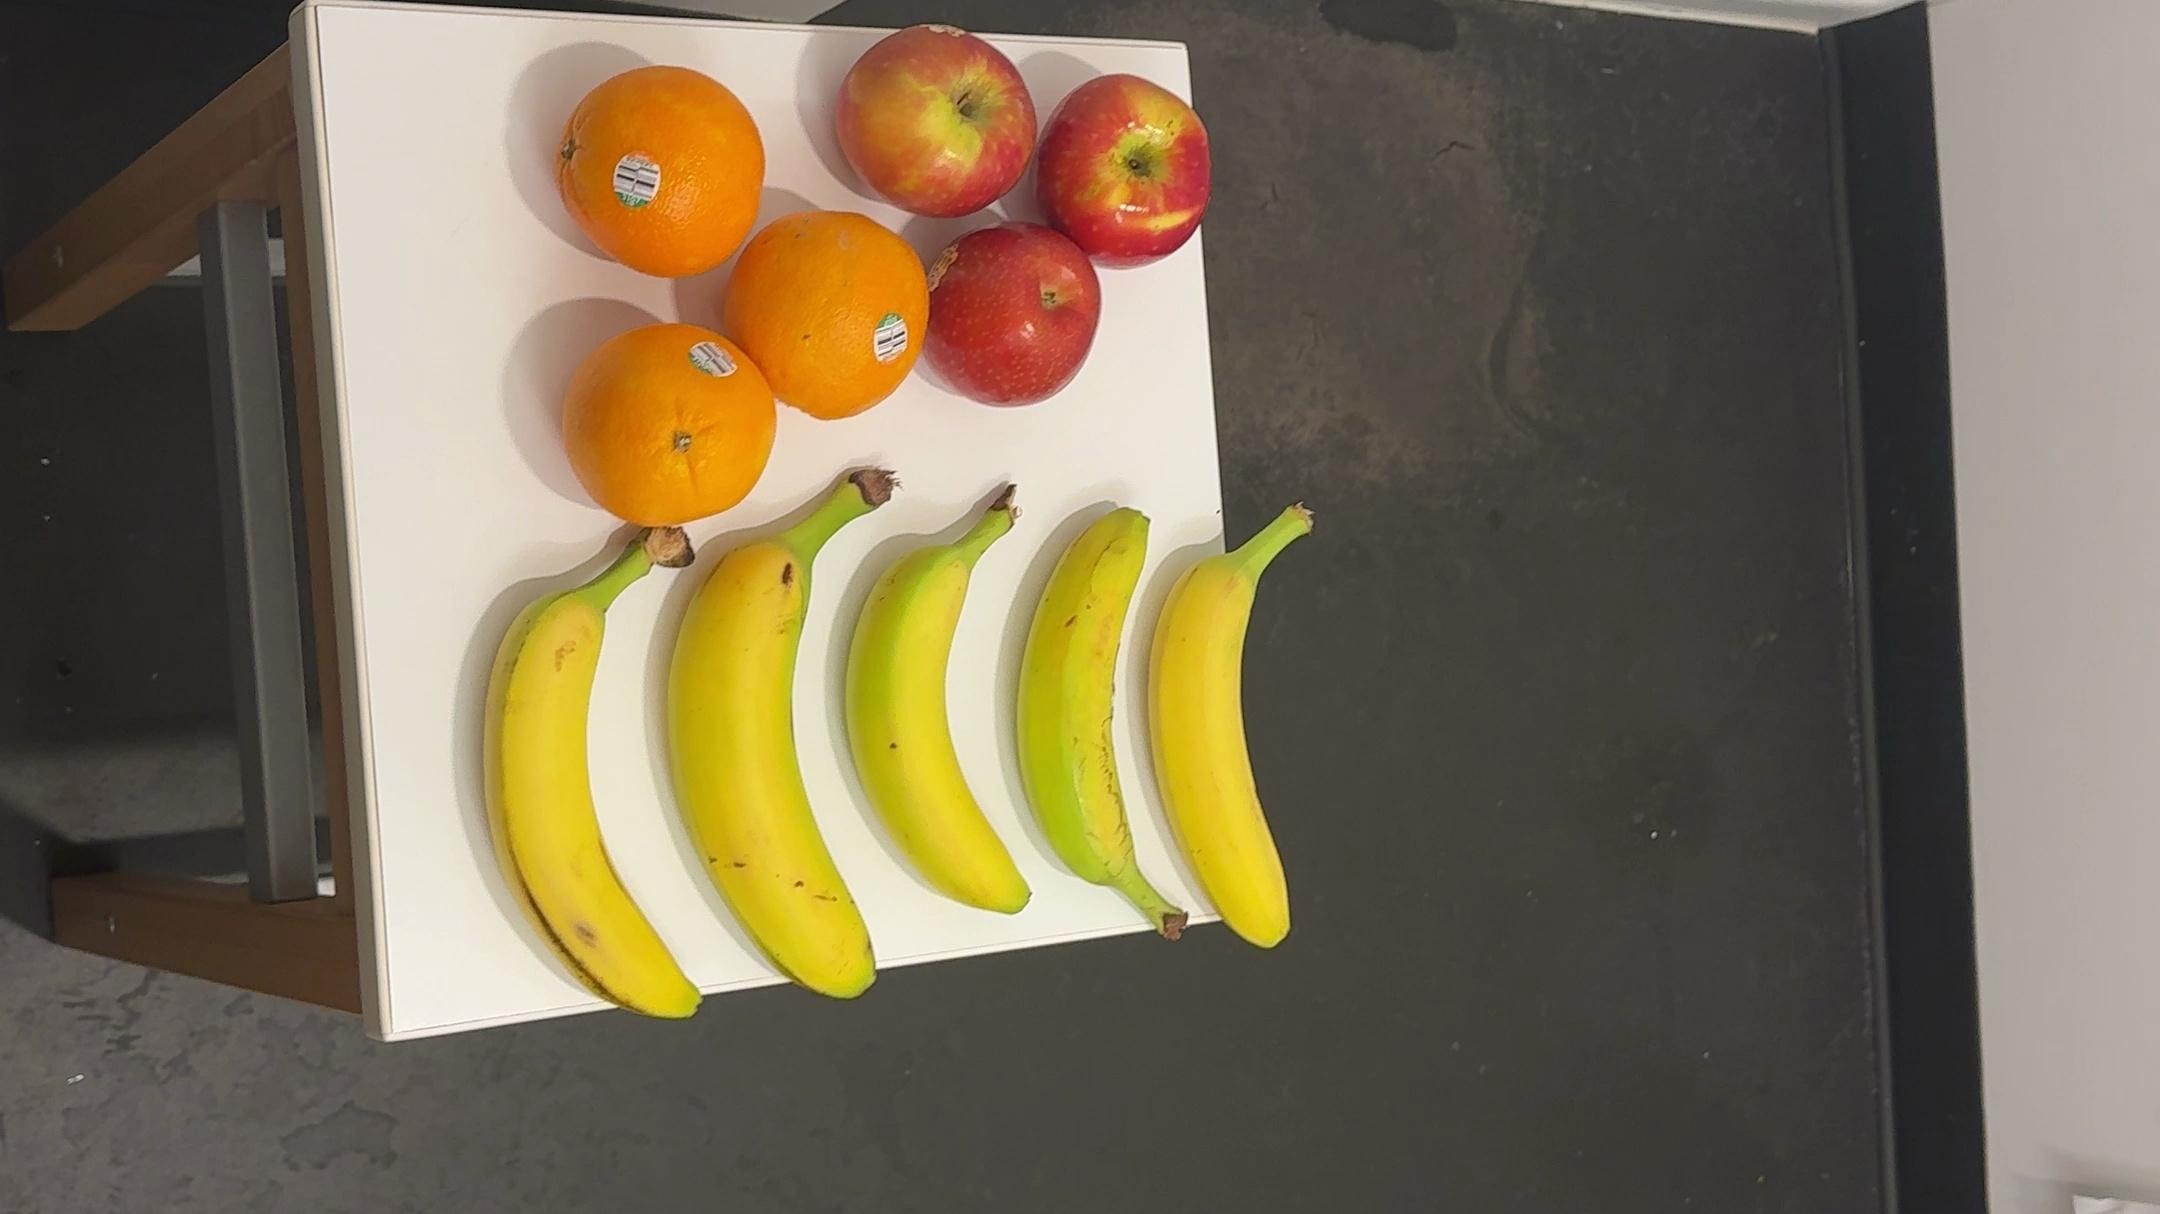apple: (843, 19, 1033, 226), (1035, 71, 1228, 270), (923, 211, 1104, 419)
banana: (469, 522, 711, 1037), (676, 457, 899, 1017), (860, 470, 1047, 936), (1151, 491, 1332, 966), (1021, 493, 1203, 962)
orange: (559, 309, 777, 543), (544, 67, 754, 283), (737, 199, 929, 432)
